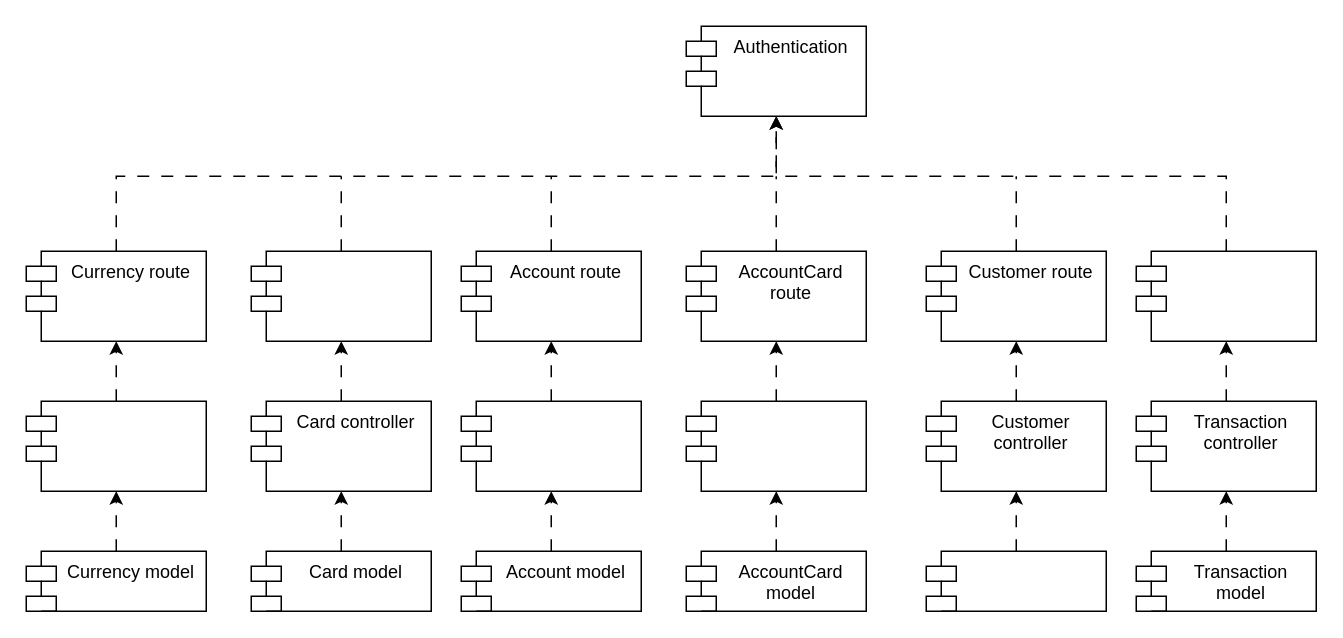
Image size: 1343x638. Some labels were removed from this diagram. Each missing label, with the centre of its shape:
"Account controller" belongs at pixel 550 445.
"AccountCard controller" belongs at pixel 775 445.
"Card route" belongs at pixel 340 295.
"Currency controller" belongs at pixel 115 445.
"Customer model" belongs at pixel 1015 580.
"Transaction route" belongs at pixel 1225 295.
